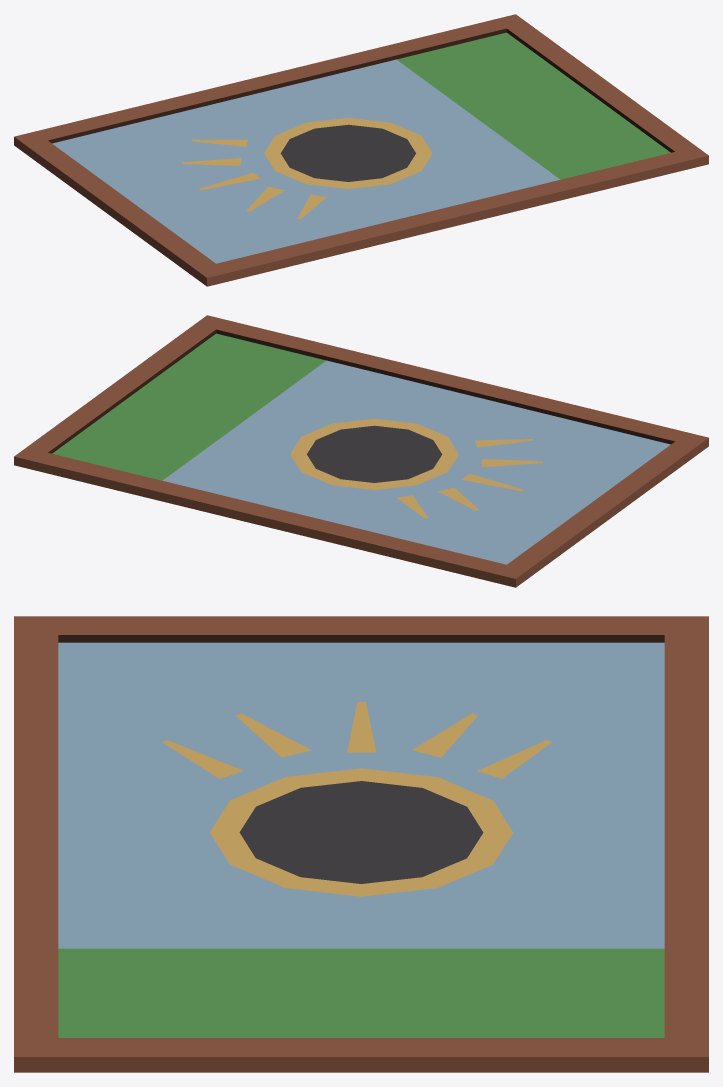
The model's file is SM_Int_WallPainting01_3_c.obj.
3 views of the same model, one above another, from view 1: azimuth 30°, elevation 25°; view 2: azimuth 150°, elevation 25°; view 3: azimuth 270°, elevation 25° (orthographic). The views are drawn at different scales.
Parts seen in each view (by area): view 1: SM_Int_WallPainting01_3_c_MI_AtlasSchool01A; view 2: SM_Int_WallPainting01_3_c_MI_AtlasSchool01A; view 3: SM_Int_WallPainting01_3_c_MI_AtlasSchool01A.
Boxes of the visible parts, bbox=[...] form: SM_Int_WallPainting01_3_c_MI_AtlasSchool01A: bbox=[14, 14, 708, 286]; SM_Int_WallPainting01_3_c_MI_AtlasSchool01A: bbox=[14, 315, 708, 587]; SM_Int_WallPainting01_3_c_MI_AtlasSchool01A: bbox=[14, 616, 708, 1072].
Bounding box in the file's own units: 1.5 × 0.025 × 1.
Materials: 1 (1 with a texture image).
